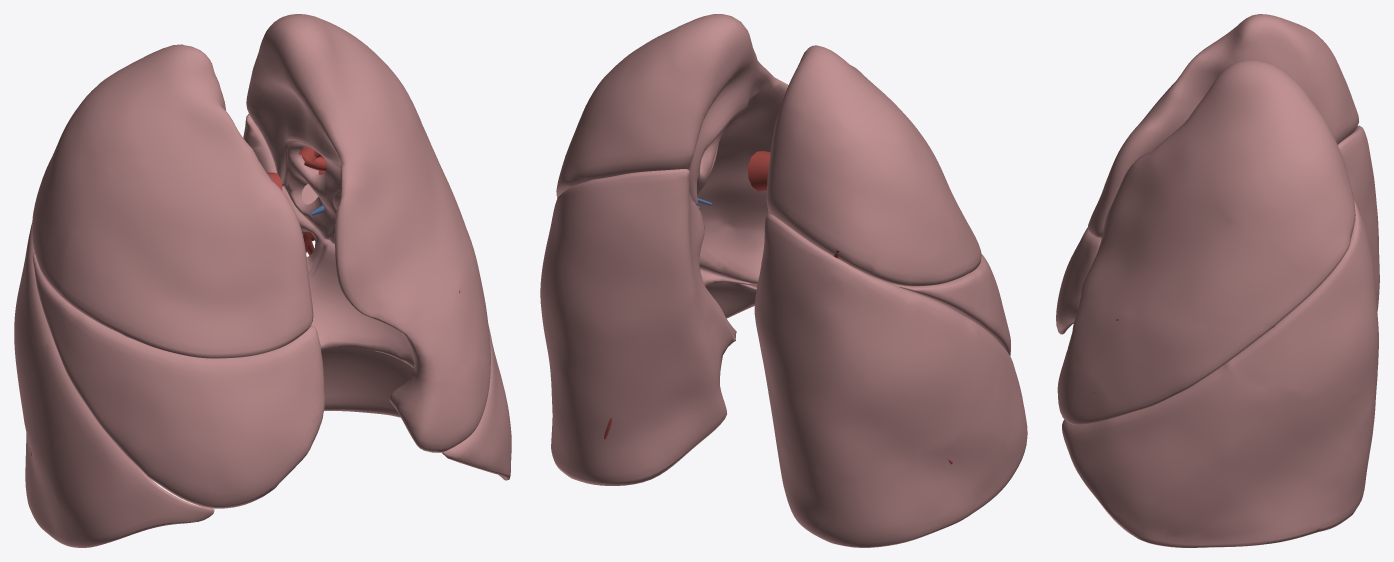
Rendered from lungs.glb.
3 views of the same model, side by side, from view 1: azimuth 30°, elevation 25°; view 2: azimuth 150°, elevation 25°; view 3: azimuth 270°, elevation 25° (orthographic). The views are drawn at different scales.
Visible parts, largest first — view 1: real-lungs-superior-lobe-of-right-lung, real-lungs-superior-lobe-of-left-lung, real-lungs-middle-lobe-of-right-lung, real-lungs-inferior-lobe-of-right-lung, real-lungs-inferior-lobe-of-left-lung; view 2: real-lungs-inferior-lobe-of-right-lung, real-lungs-inferior-lobe-of-left-lung, real-lungs-superior-lobe-of-left-lung, real-lungs-superior-lobe-of-right-lung, real-lungs-middle-lobe-of-right-lung, real-pulmonary-arteries-superior-lobar-artery-of-right-lung; view 3: real-lungs-superior-lobe-of-left-lung, real-lungs-inferior-lobe-of-left-lung, real-lungs-superior-lobe-of-right-lung, real-lungs-inferior-lobe-of-right-lung, real-lungs-middle-lobe-of-right-lung.
Boxes of the visible parts, left/top/right/bottom form: real-lungs-superior-lobe-of-right-lung: left=32, top=44, right=313, bottom=358; real-lungs-superior-lobe-of-left-lung: left=246, top=14, right=490, bottom=452; real-lungs-middle-lobe-of-right-lung: left=32, top=252, right=324, bottom=508; real-lungs-inferior-lobe-of-right-lung: left=14, top=223, right=214, bottom=547; real-lungs-inferior-lobe-of-left-lung: left=243, top=114, right=511, bottom=480; real-lungs-inferior-lobe-of-right-lung: left=754, top=214, right=1027, bottom=547; real-lungs-inferior-lobe-of-left-lung: left=540, top=169, right=756, bottom=485; real-lungs-superior-lobe-of-left-lung: left=556, top=14, right=788, bottom=287; real-lungs-superior-lobe-of-right-lung: left=766, top=45, right=981, bottom=286; real-lungs-middle-lobe-of-right-lung: left=889, top=254, right=1010, bottom=355; real-pulmonary-arteries-superior-lobar-artery-of-right-lung: left=748, top=151, right=770, bottom=191; real-lungs-superior-lobe-of-left-lung: left=1057, top=59, right=1355, bottom=424; real-lungs-inferior-lobe-of-left-lung: left=1062, top=199, right=1378, bottom=547; real-lungs-superior-lobe-of-right-lung: left=1088, top=14, right=1358, bottom=237; real-lungs-inferior-lobe-of-right-lung: left=1073, top=125, right=1379, bottom=323; real-lungs-middle-lobe-of-right-lung: left=1056, top=227, right=1101, bottom=334.
Size of the model in its own units: 0.261 by 0.264 by 0.1857.
